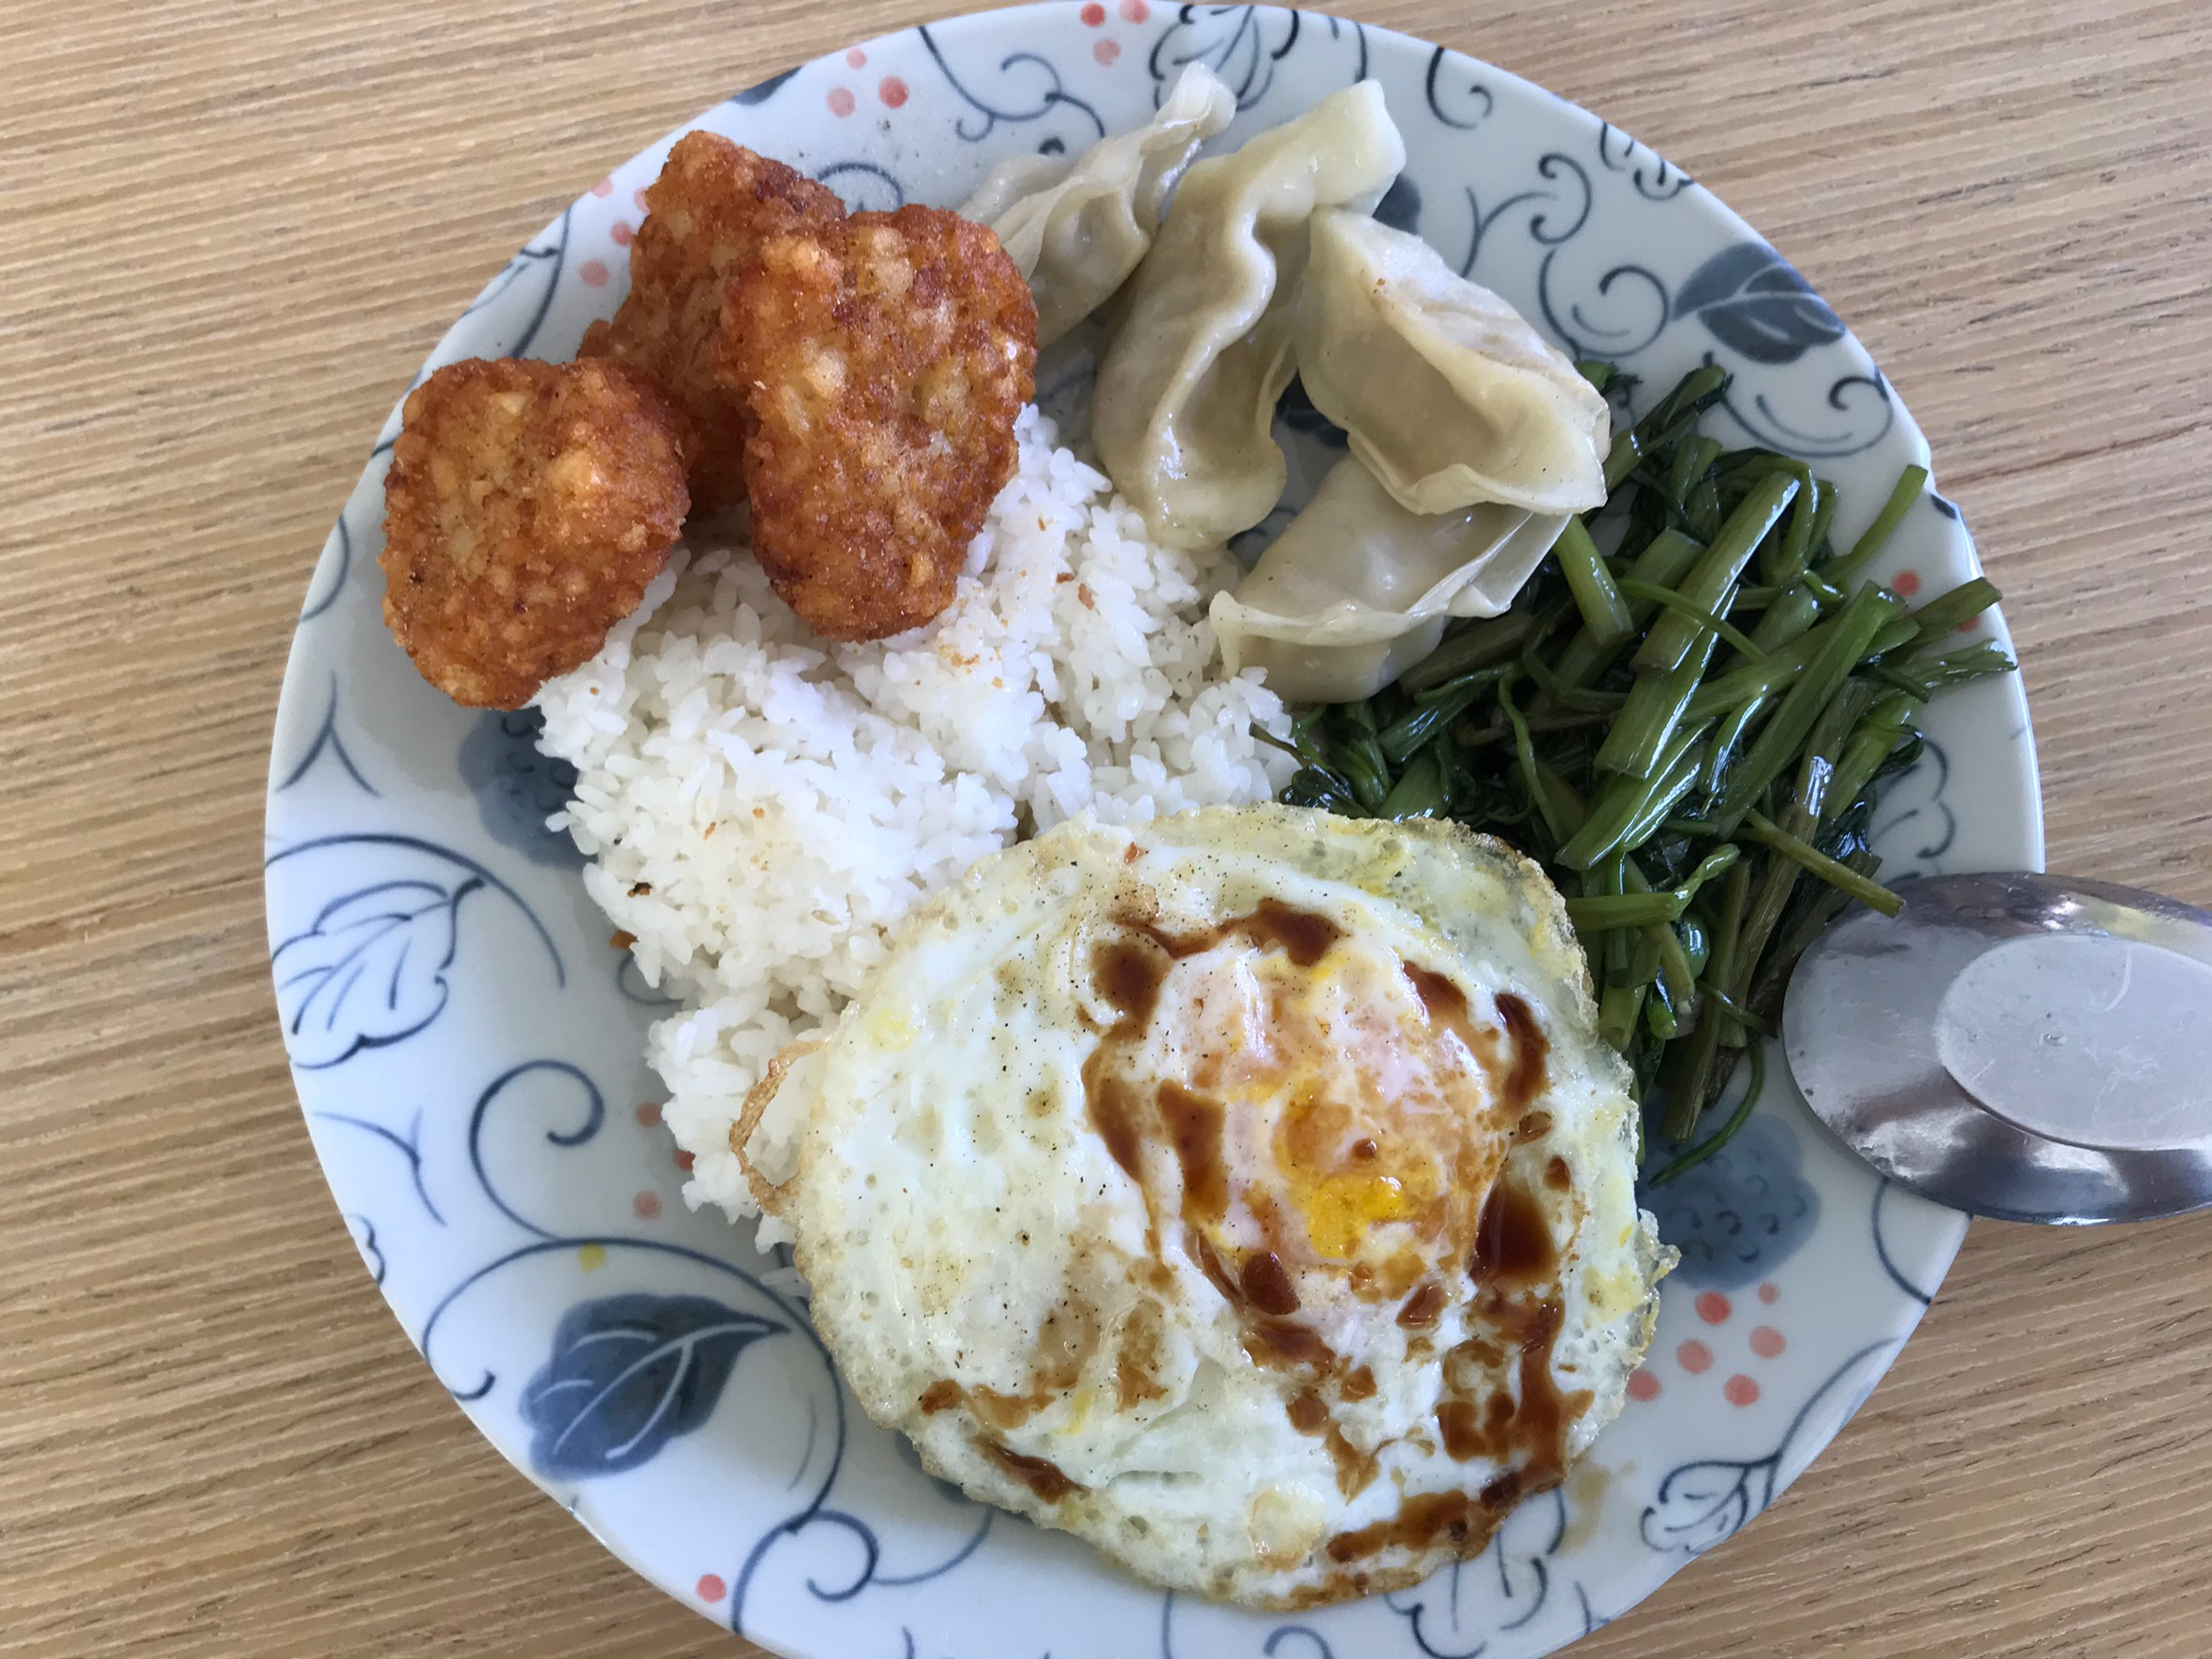fried_dumplings: (1028, 73, 1604, 692)
fried_eggs: (786, 812, 1680, 1598)
rice: (560, 551, 1198, 958)
triangle_hash_brown: (356, 139, 1034, 709)
water_spinach: (1536, 422, 1891, 992)
